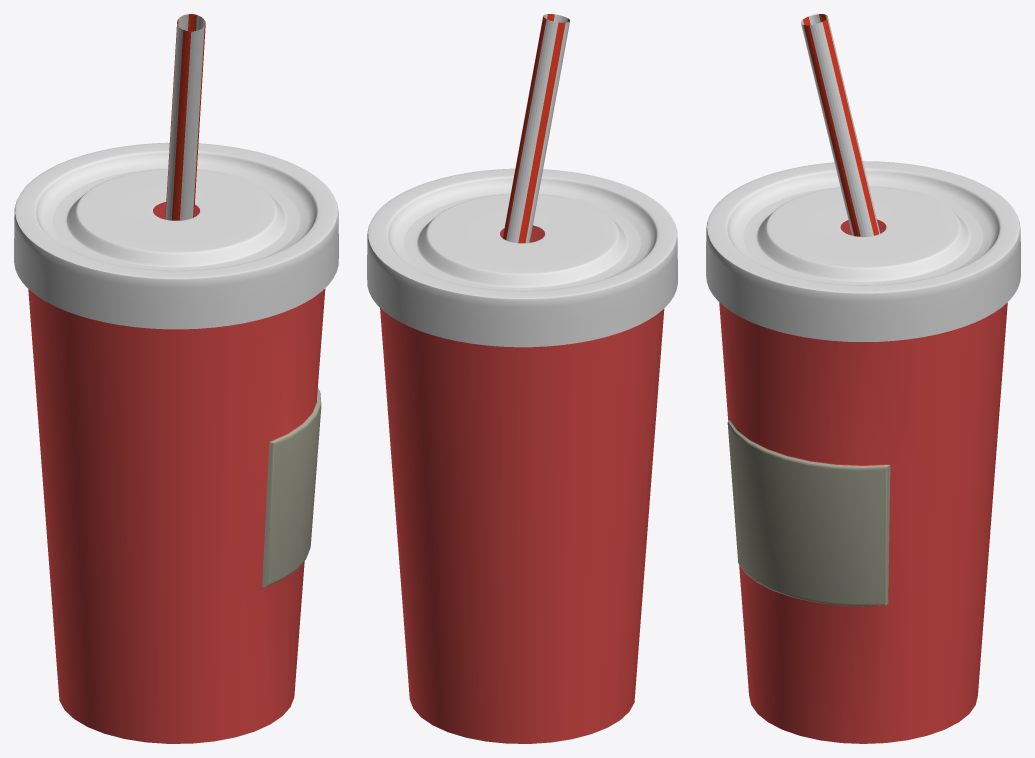
The model's file is CUP6754.fbx.
The picture shows the model from 3 angles, left to right: view 1: azimuth 30°, elevation 25°; view 2: azimuth 150°, elevation 25°; view 3: azimuth 270°, elevation 25°; orthographic projection. The views are drawn at different scales.
Visible parts, largest first — view 1: Cylinder, Cylinder.001, Cylinder.002; view 2: Cylinder, Cylinder.001, Cylinder.002; view 3: Cylinder, Cylinder.001, Cylinder.002.
Part boxes in pixels (x1,y1,x2,y2): Cylinder: [28, 202, 325, 743]; Cylinder.001: [14, 142, 338, 329]; Cylinder.002: [165, 14, 205, 220]; Cylinder: [380, 225, 664, 743]; Cylinder.001: [367, 168, 677, 347]; Cylinder.002: [502, 14, 569, 243]; Cylinder: [719, 219, 1007, 743]; Cylinder.001: [706, 161, 1020, 341]; Cylinder.002: [801, 14, 880, 236].
Size of what is drawn, in the model's own units: 107 by 253 by 107.
